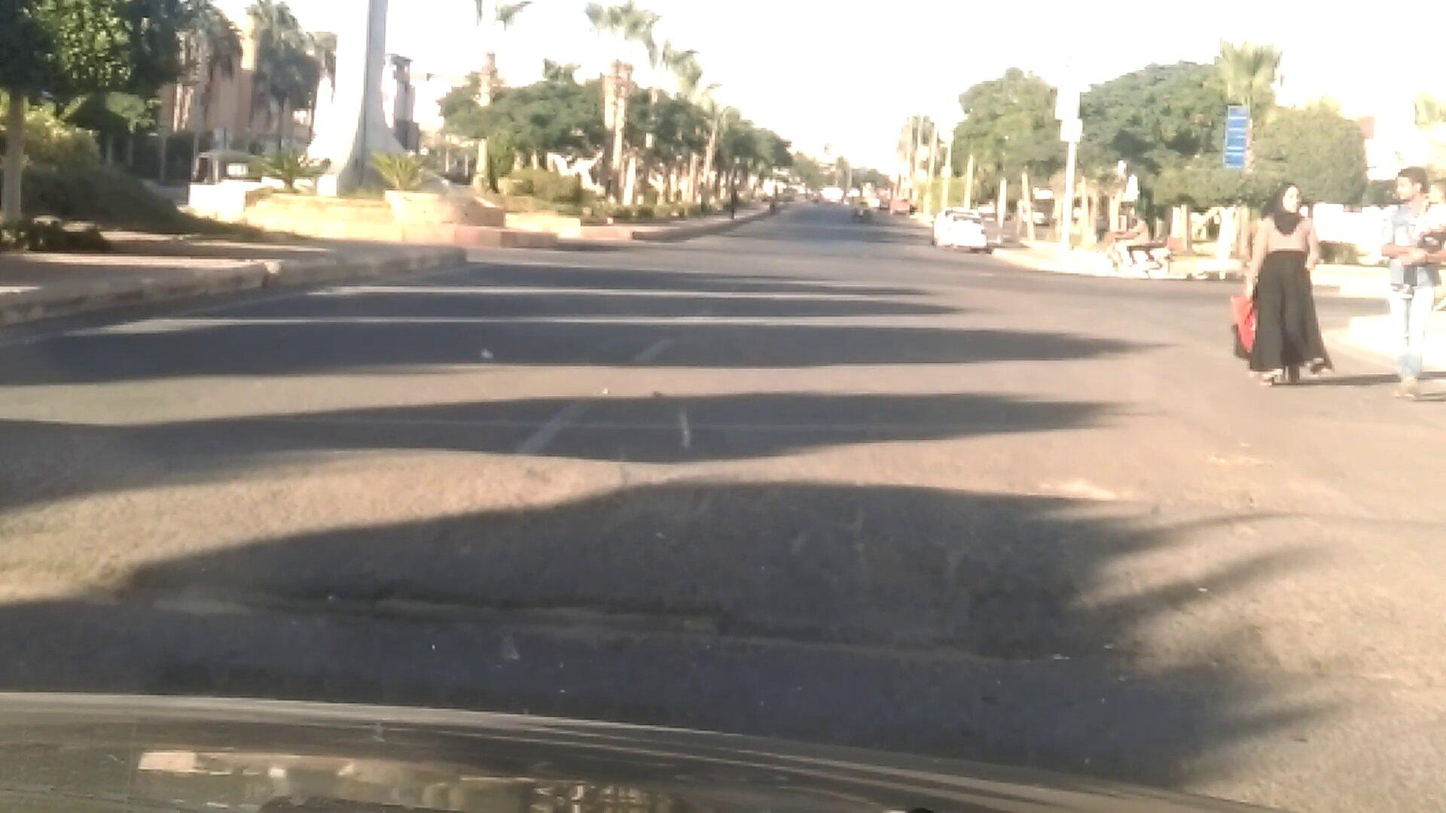Bump: (0, 422, 1431, 662)
Pothole: (230, 591, 955, 679)
